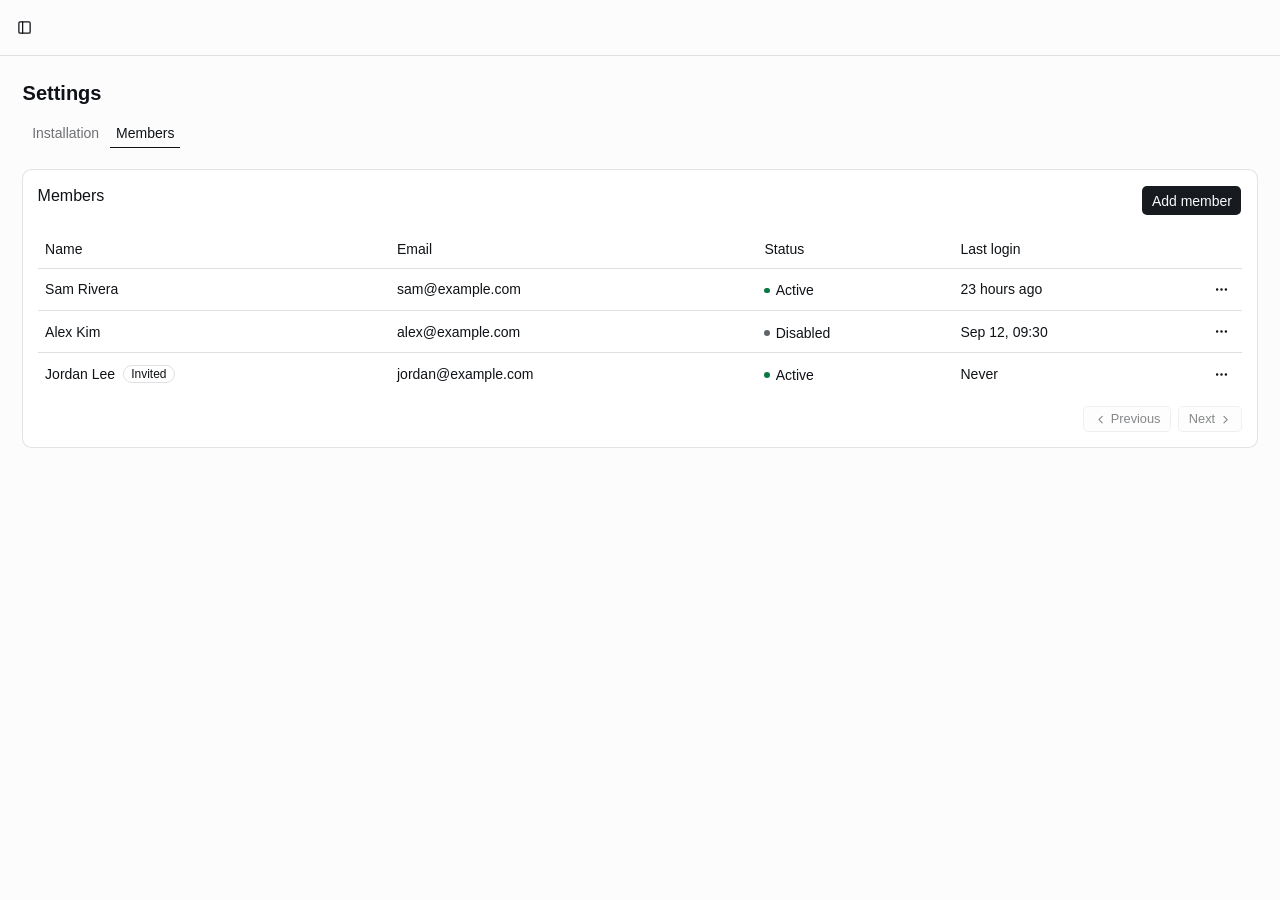
adding a taken email shows the problem in the modal
Step 1. Click the button "Add member" → point(1192, 201), box [1142,186,1242,216]
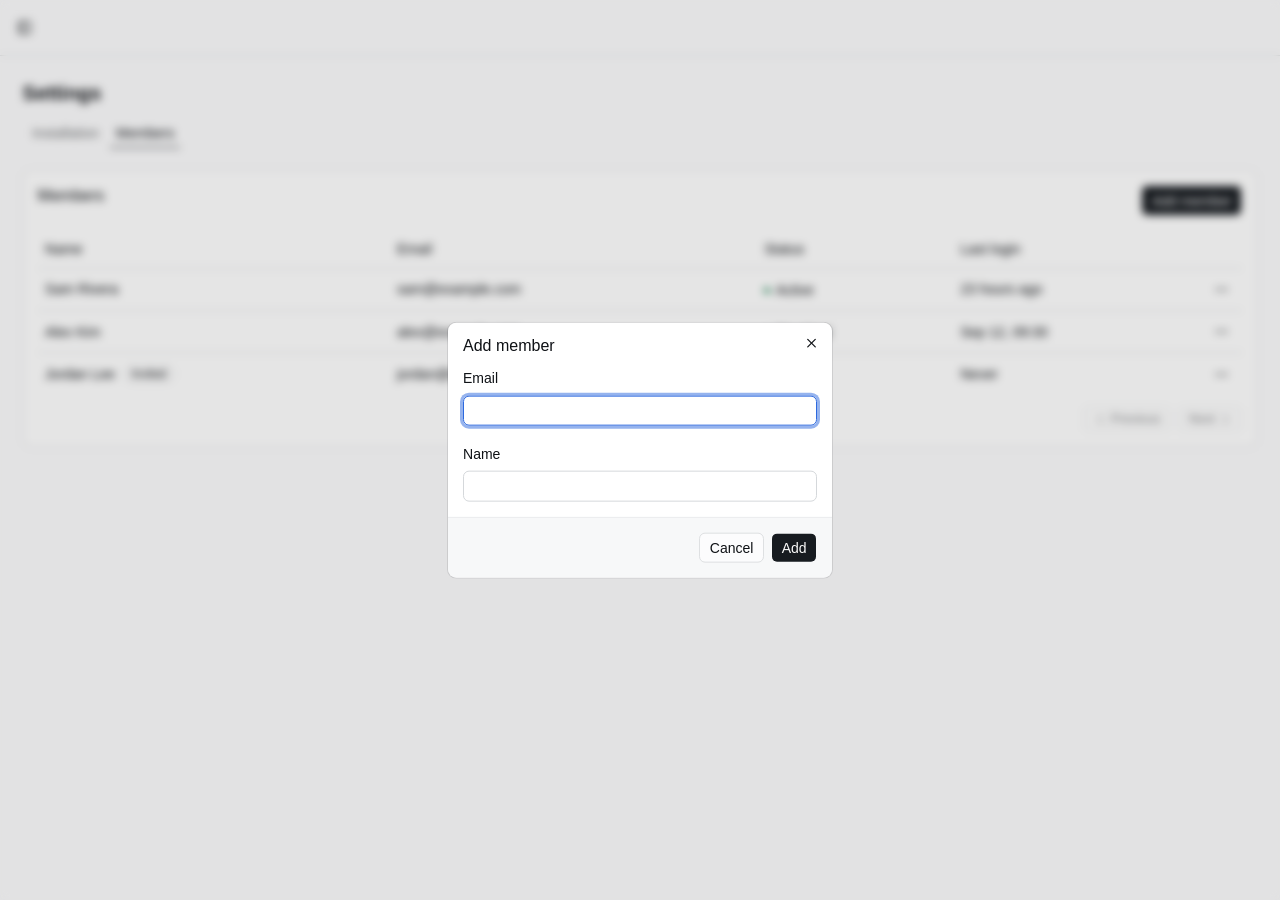
Step 2. Type "sam@example.com" into the field labelled "Email" → point(640, 411), box [463,396,817,426]
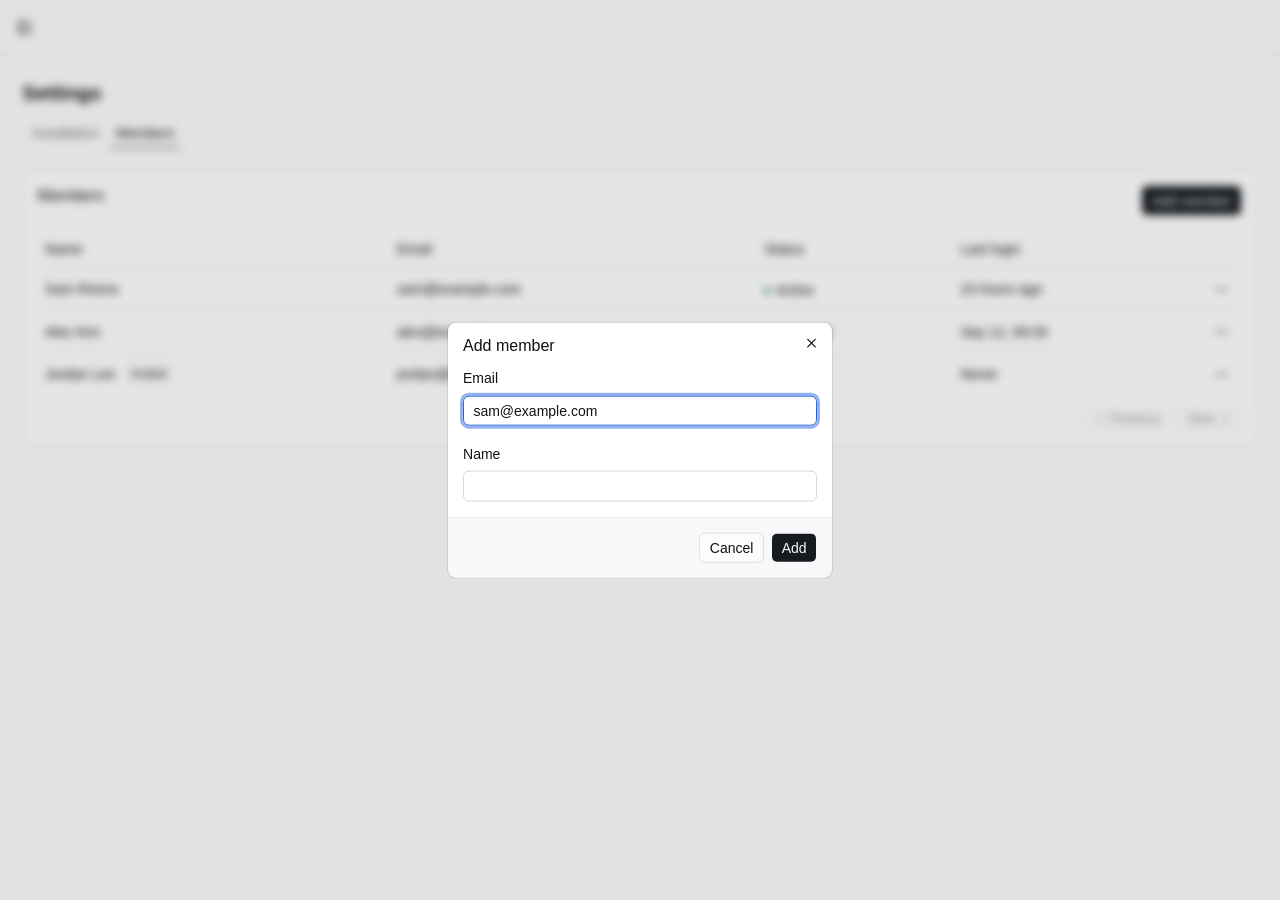
Step 3. Type "Sam" into the field labelled "Name" → point(640, 486), box [463,471,817,501]
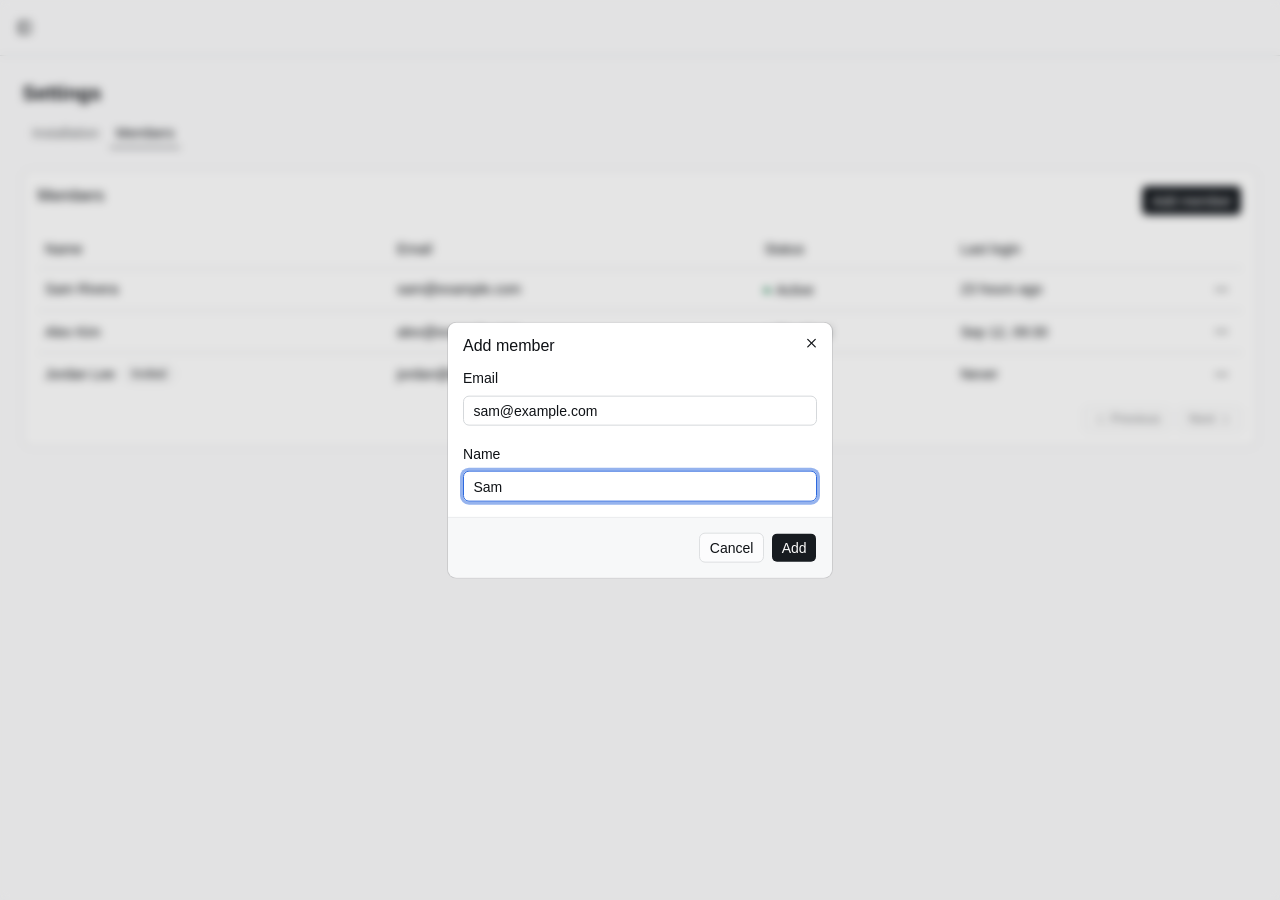
Step 4. Click the button "Add" → point(794, 547), box [771,532,817,562]
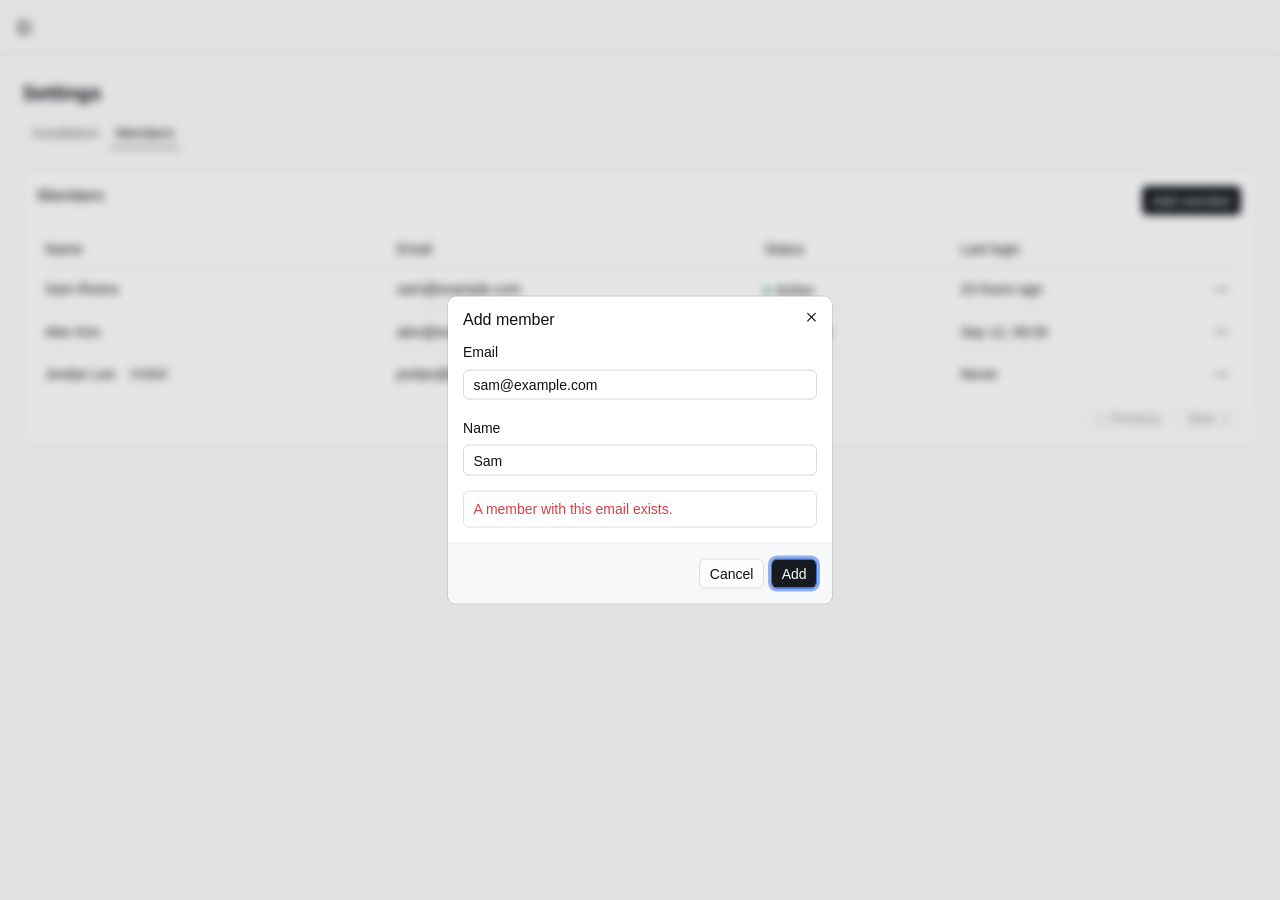
Now the text "A member with this email exists." is shown, box [473,501,673,517]
